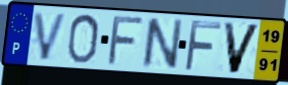F: (182, 18, 223, 73), (105, 15, 147, 67)
N: (140, 17, 185, 71)
O: (65, 12, 101, 65)
V: (222, 20, 263, 76), (32, 10, 69, 62)
